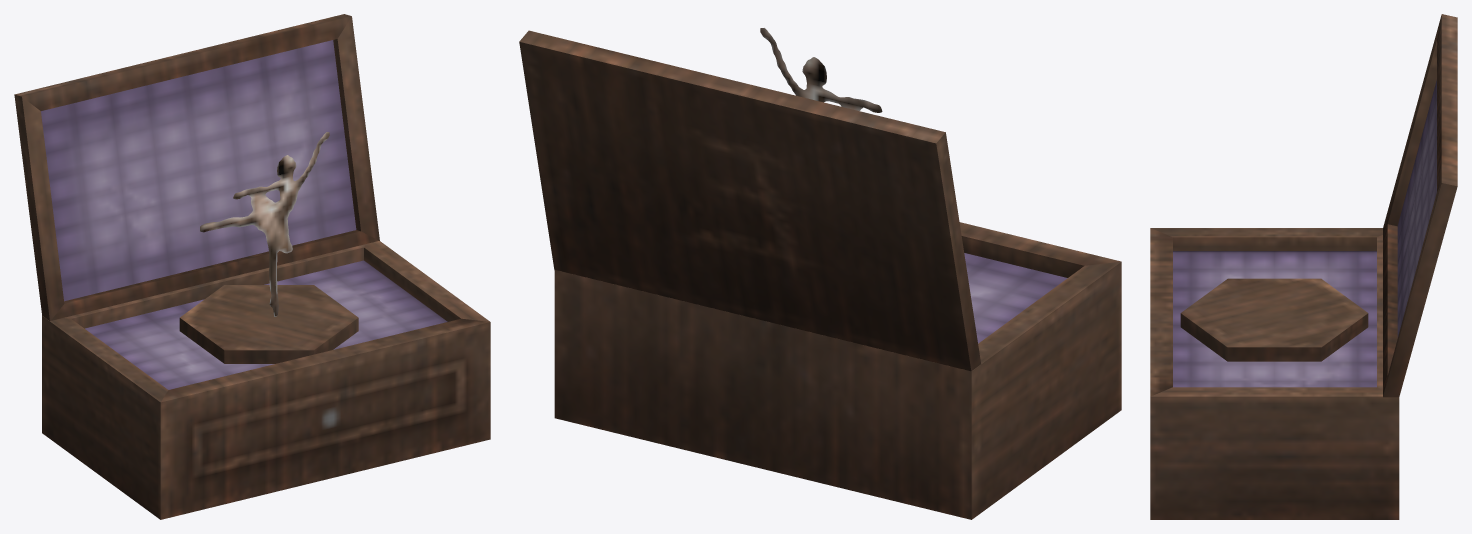
Rendered from Musicbox.fbx.
The picture shows the model from 3 angles, left to right: view 1: azimuth 30°, elevation 25°; view 2: azimuth 150°, elevation 25°; view 3: azimuth 270°, elevation 25°; orthographic projection. The views are drawn at different scales.
Parts seen in each view (by area): view 1: Musicbox; view 2: Musicbox; view 3: Musicbox.
Part boxes in pixels (x1,y1,x2,y2): Musicbox: (14, 14, 490, 519); Musicbox: (519, 28, 1121, 519); Musicbox: (1150, 14, 1457, 519).
Bounding box in the file's own units: 20.51 × 19.08 × 15.76.
